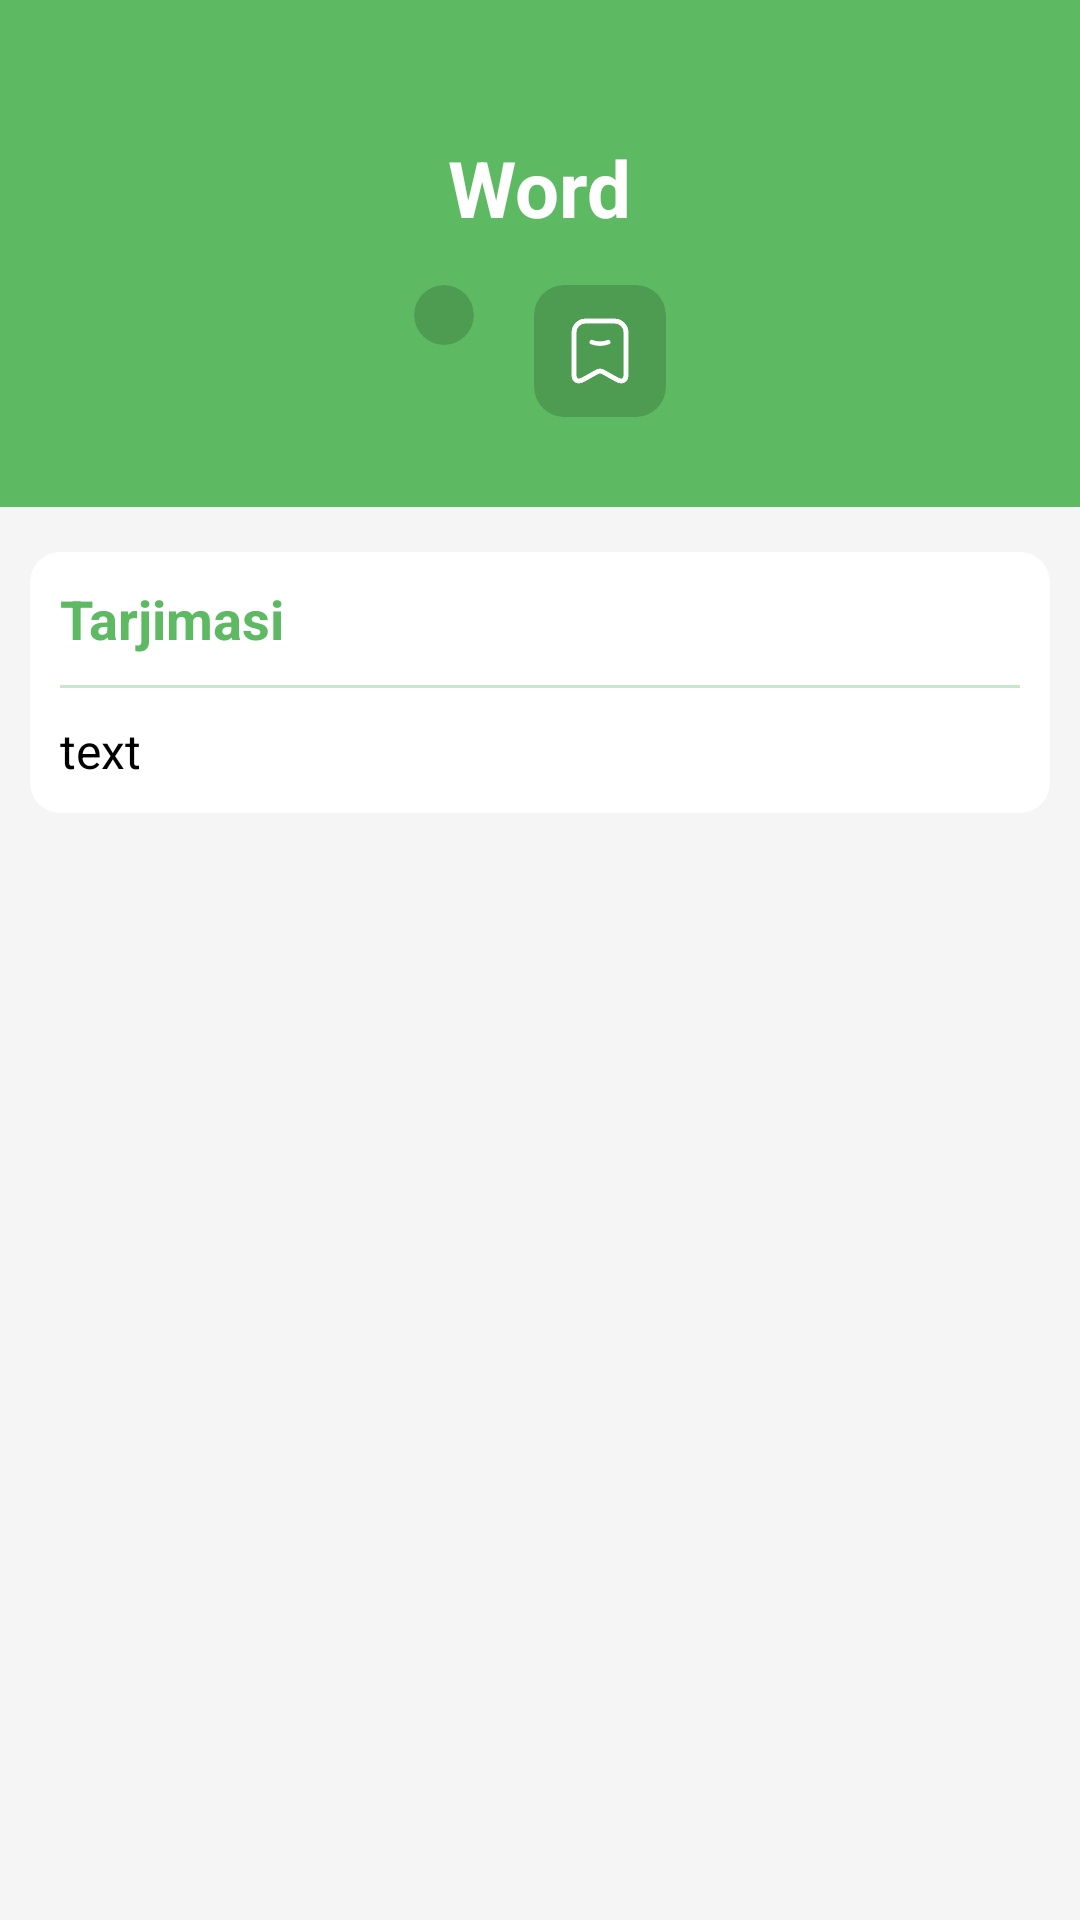

Named icons in this screenshot (1080px x 1920px) and their centers, [x,y]:
save: [600,351]
